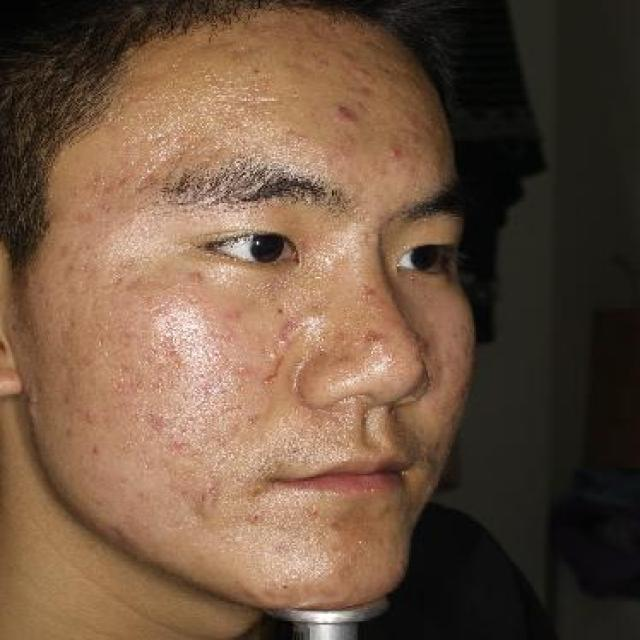papules: (323, 98, 368, 131), (378, 145, 412, 163), (142, 411, 169, 432), (180, 266, 208, 285)
pustules: (359, 328, 387, 349)
